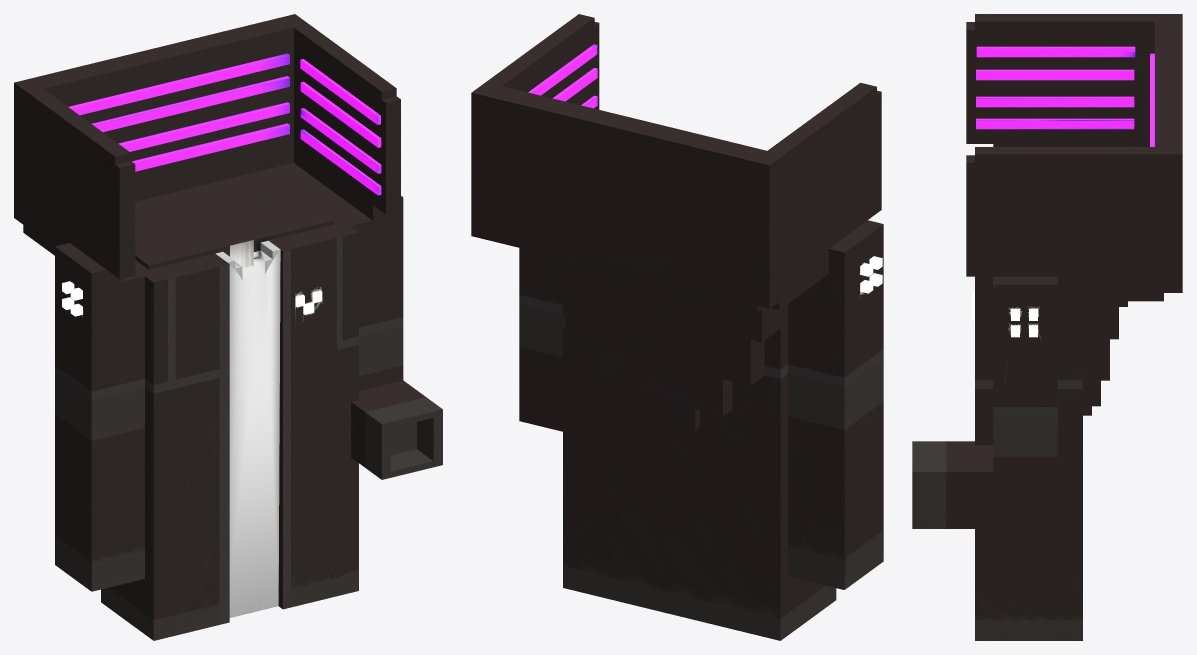
Rendered from cyber_jacket_pink.glb.
3 renders of one model, left to right at view 1: azimuth 30°, elevation 25°; view 2: azimuth 150°, elevation 25°; view 3: azimuth 270°, elevation 25°, orthographic. The views are drawn at different scales.
Visible parts, largest first — view 1: cyber_jacket.002; view 2: cyber_jacket.002; view 3: cyber_jacket.002.
Part boxes in pixels (x1,y1,x2,y2): cyber_jacket.002: (14,14,442,640); cyber_jacket.002: (471,14,883,640); cyber_jacket.002: (912,14,1182,640).
Bounding box in the file's own units: 4.3 × 6.2 × 3.01.
Materials: 1 (1 with a texture image).
